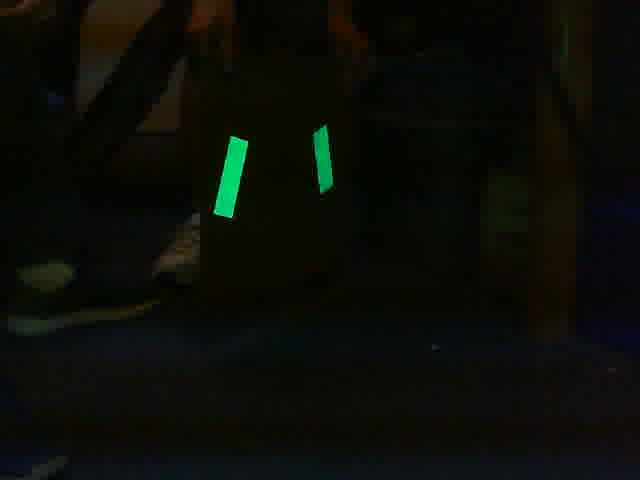target: (212, 124, 338, 221)
